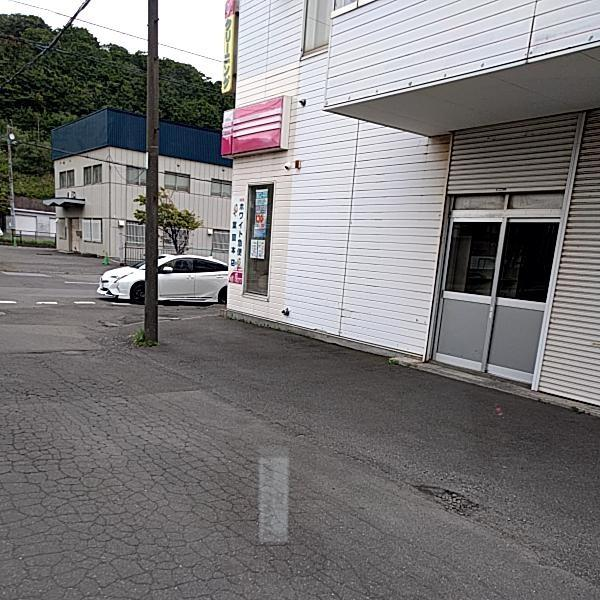pothole: (408, 484, 479, 518)
